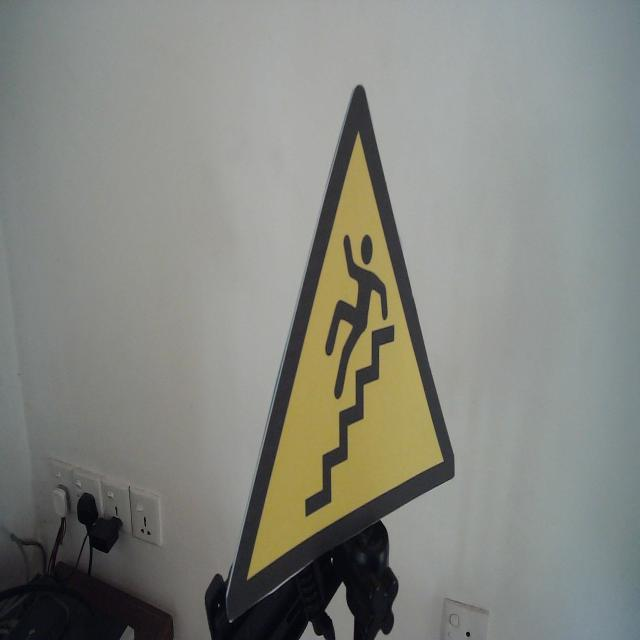stairs: (226, 81, 457, 626)
